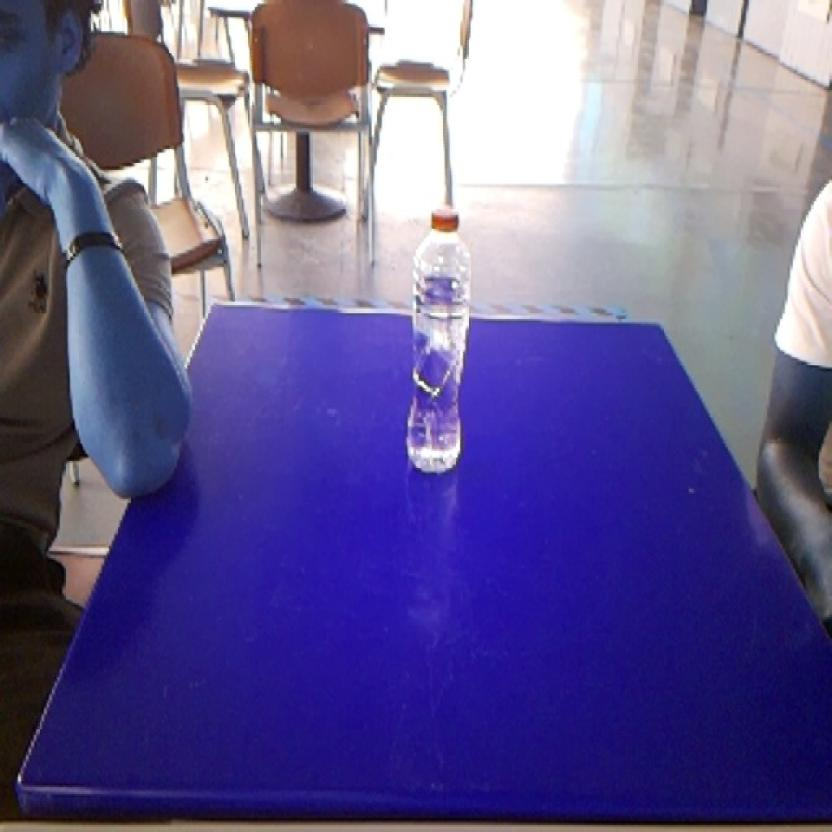no_label: (398, 194, 480, 482)
